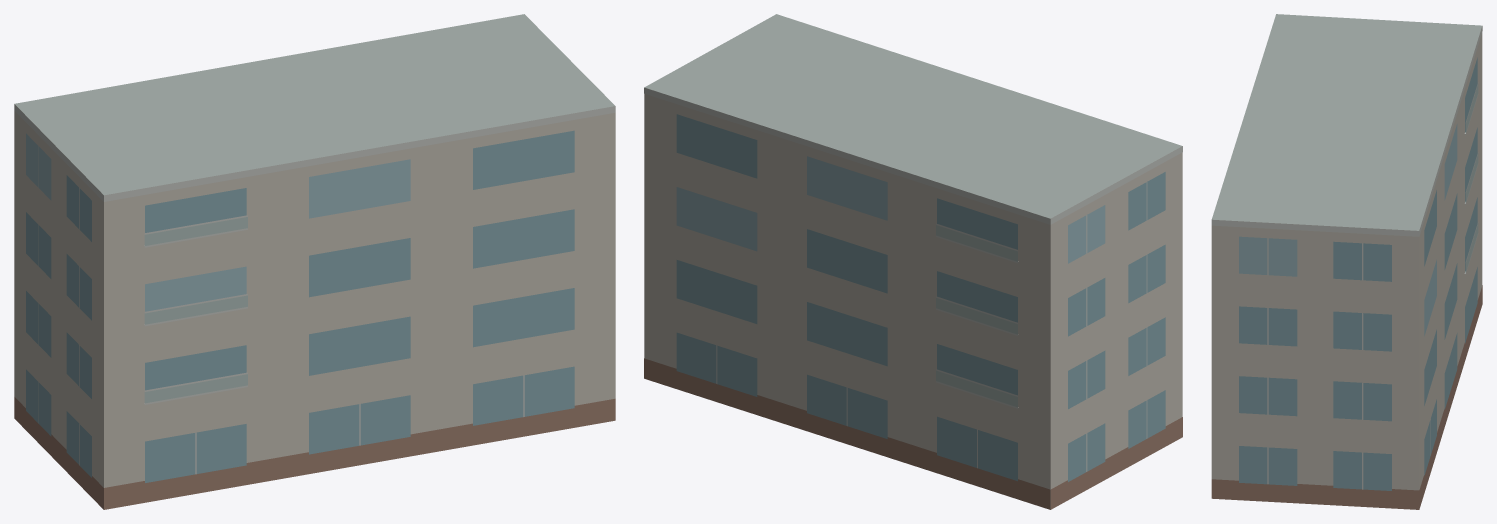
Rendered from survey-upis-32522964.glb.
3 views of the same model, side by side, from view 1: azimuth 30°, elevation 25°; view 2: azimuth 150°, elevation 25°; view 3: azimuth 270°, elevation 25° (orthographic). The views are drawn at different scales.
Visible parts, largest first — view 1: survey-upis-32522964.tmp; view 2: survey-upis-32522964.tmp; view 3: survey-upis-32522964.tmp.
Part boxes in pixels (x1,y1,x2,y2): survey-upis-32522964.tmp: (14, 14, 615, 509); survey-upis-32522964.tmp: (644, 14, 1182, 509); survey-upis-32522964.tmp: (1211, 14, 1482, 509).
Size of the model in its own units: 19.19 by 11.5 by 10.13.
